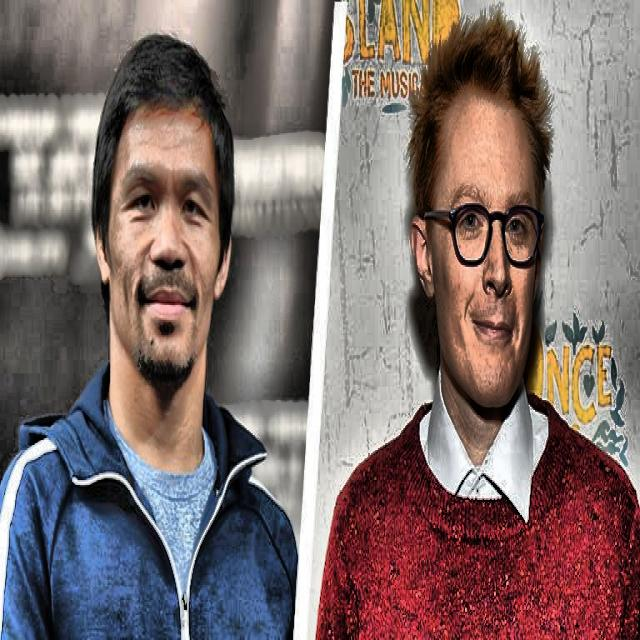Human: (328, 19, 640, 632), (12, 45, 296, 640)
